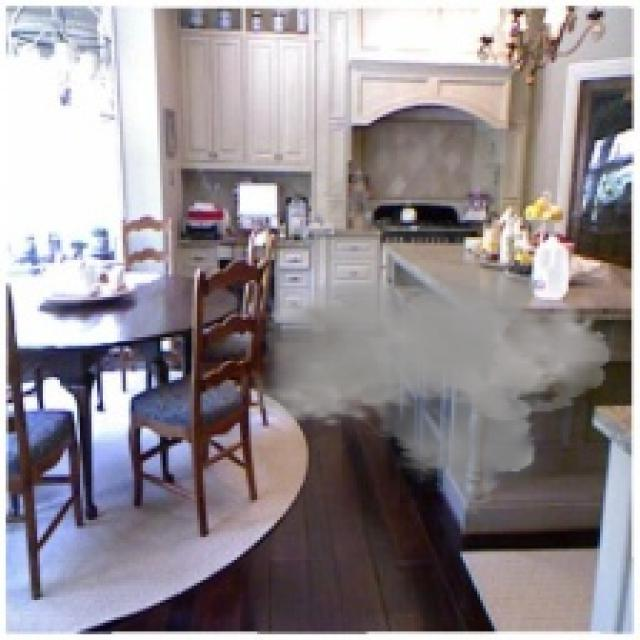smoke: (248, 166, 612, 517)
